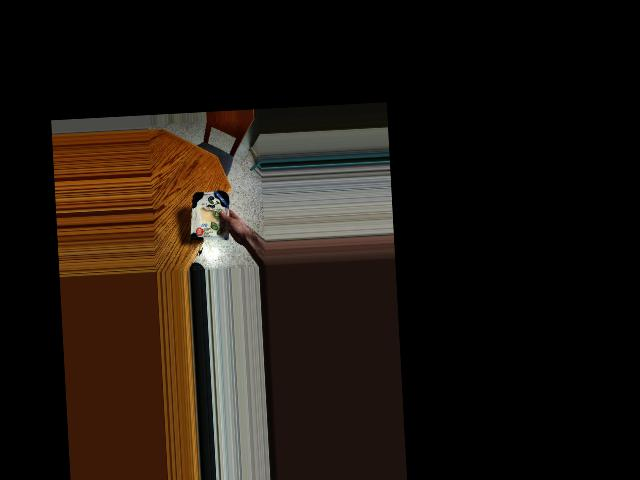cheese: (188, 182, 230, 250)
